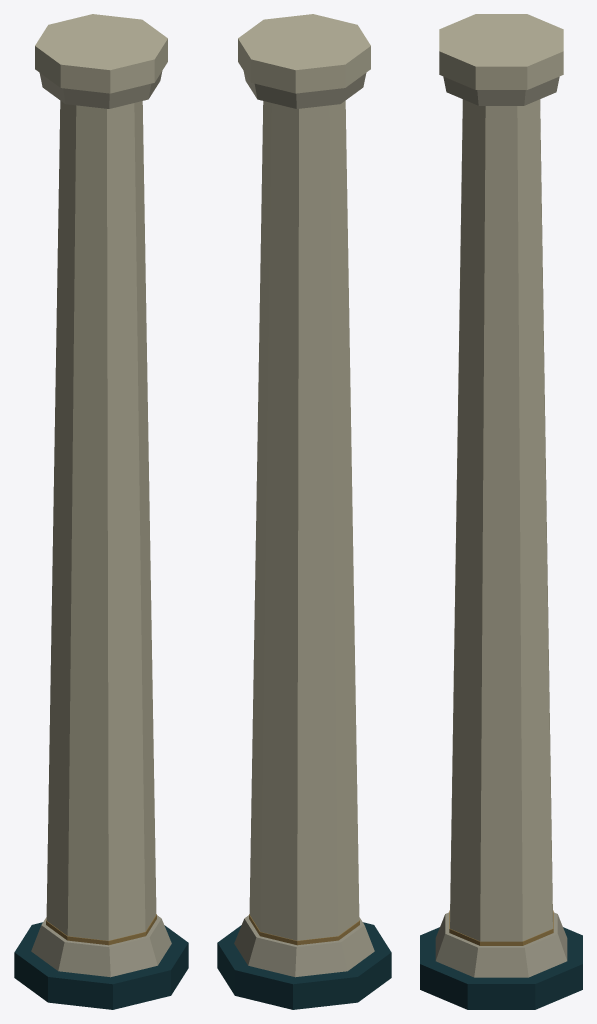
The model's file is WP_A15_pillar_8m_v02.glb.
The picture shows the model from 3 angles, left to right: view 1: azimuth 30°, elevation 25°; view 2: azimuth 150°, elevation 25°; view 3: azimuth 270°, elevation 25°; orthographic projection.
Visible parts, largest first — view 1: Pillar.001; view 2: Pillar.001; view 3: Pillar.001.
Boxes of the visible parts, x1,y1,x2,y2 form: Pillar.001: (14,14,188,1009); Pillar.001: (217,14,391,1009); Pillar.001: (420,14,582,1009).
Bounding box in the file's own units: 1.26 × 7.96 × 1.26.
